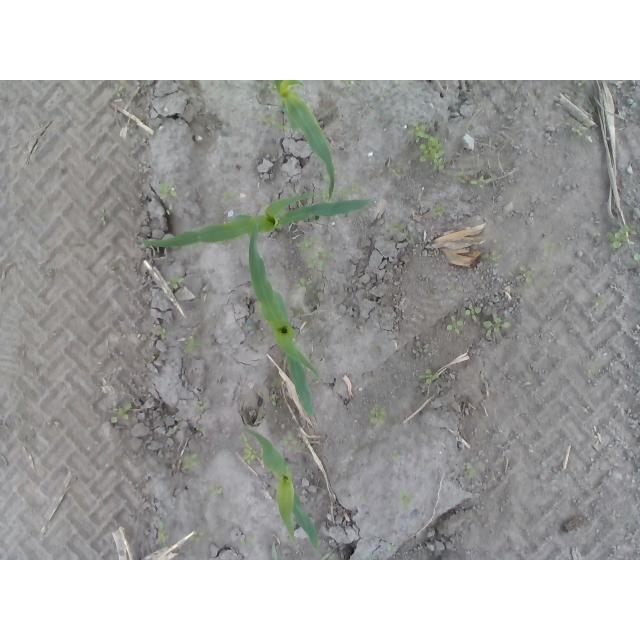Maize: (229, 212, 322, 418), (140, 194, 369, 250), (243, 426, 321, 554), (276, 80, 336, 202)
Weeds: (444, 302, 510, 338), (414, 119, 446, 170), (302, 238, 338, 266), (608, 222, 637, 250), (259, 111, 287, 131), (109, 400, 131, 424), (456, 170, 486, 187), (338, 182, 364, 201), (158, 176, 179, 199), (241, 437, 258, 463), (280, 430, 298, 450), (524, 267, 539, 290), (368, 405, 385, 425), (384, 222, 409, 235), (169, 274, 187, 292), (181, 452, 199, 469), (418, 367, 435, 385), (183, 335, 198, 354), (190, 529, 208, 544), (399, 493, 413, 512), (159, 520, 170, 544), (295, 277, 314, 290), (222, 190, 242, 202), (209, 483, 224, 497), (543, 241, 556, 256), (463, 464, 476, 479), (481, 253, 499, 263), (99, 207, 109, 225), (112, 84, 127, 96), (241, 535, 256, 546), (595, 292, 606, 307), (433, 207, 447, 218), (197, 399, 207, 413), (392, 167, 405, 177), (575, 80, 587, 90), (391, 449, 401, 460), (575, 128, 585, 137), (583, 366, 591, 376), (387, 543, 395, 553), (159, 328, 166, 339), (633, 253, 640, 264), (342, 81, 353, 88)
